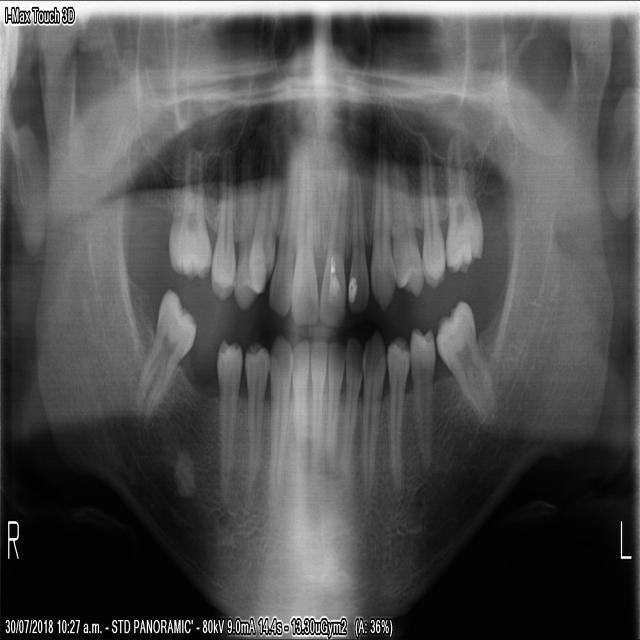LCD: (340, 331, 364, 461)
LCU: (369, 162, 397, 313)
LID: (307, 334, 328, 461), (323, 336, 345, 456)
LIU: (316, 151, 348, 328), (346, 168, 369, 318)
LMD: (431, 292, 498, 425), (409, 321, 435, 470)
LMU: (442, 143, 489, 288)
LPMD: (359, 322, 384, 496), (384, 330, 410, 493)
LPMU: (392, 169, 426, 298), (419, 164, 446, 289)
RCD: (242, 341, 270, 475)
RCU: (246, 167, 280, 297)
RID: (266, 330, 292, 478), (290, 328, 309, 462)
RIU: (262, 177, 298, 322), (291, 168, 318, 323)
RMD: (132, 278, 197, 416)
RMU: (164, 148, 212, 283)
RPMD: (214, 333, 242, 493)
RPMU: (206, 162, 238, 304), (233, 181, 264, 311)
